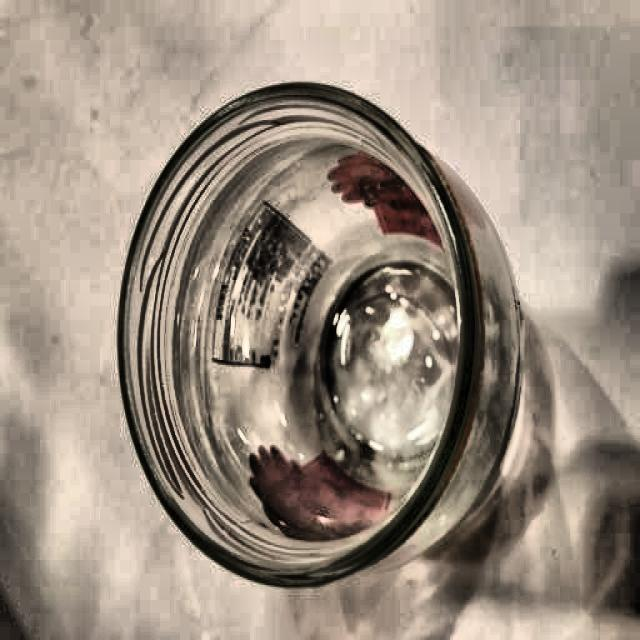glass: (114, 76, 528, 587)
